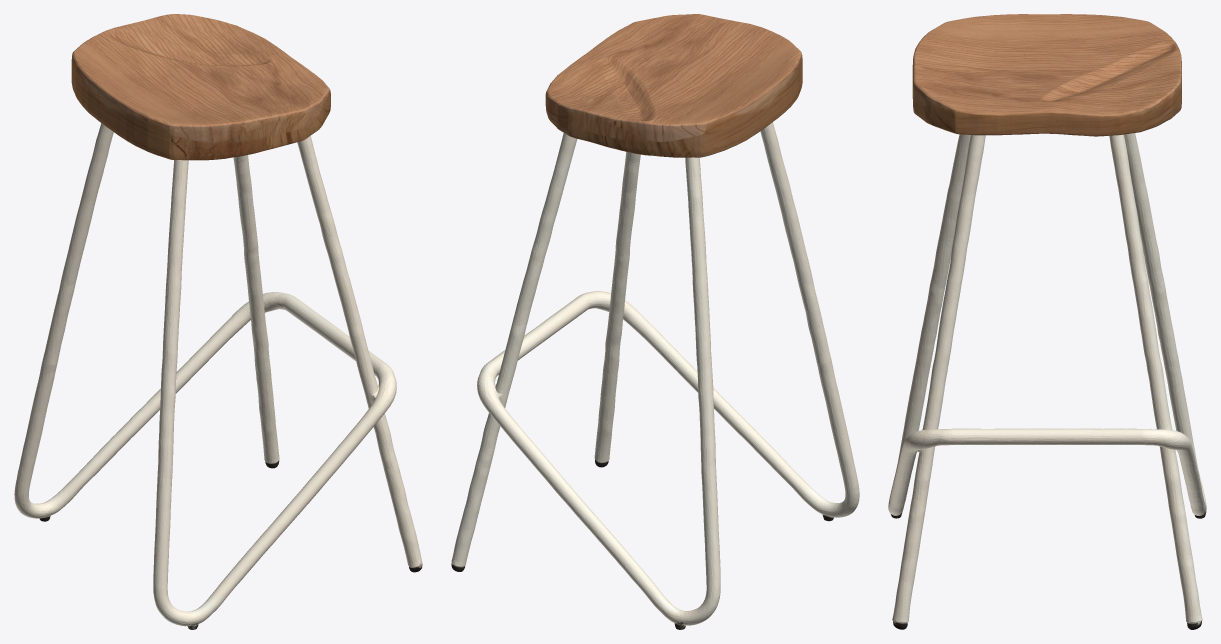
The model's file is ND-0953__https___northdeco_com_collections_taburetes_products_taburet_38.glb.
3 views of the same model, side by side, from view 1: azimuth 30°, elevation 25°; view 2: azimuth 150°, elevation 25°; view 3: azimuth 270°, elevation 25° (orthographic). The views are drawn at different scales.
Size of the model in its own units: 1.14 by 2 by 1.16.
1 material, 1 textured.
